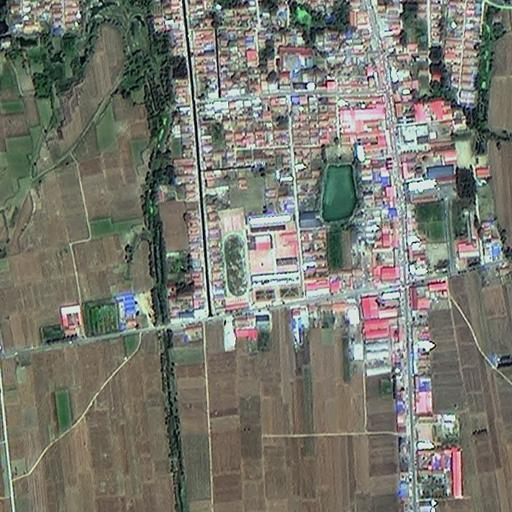school: (219, 210, 299, 306)
